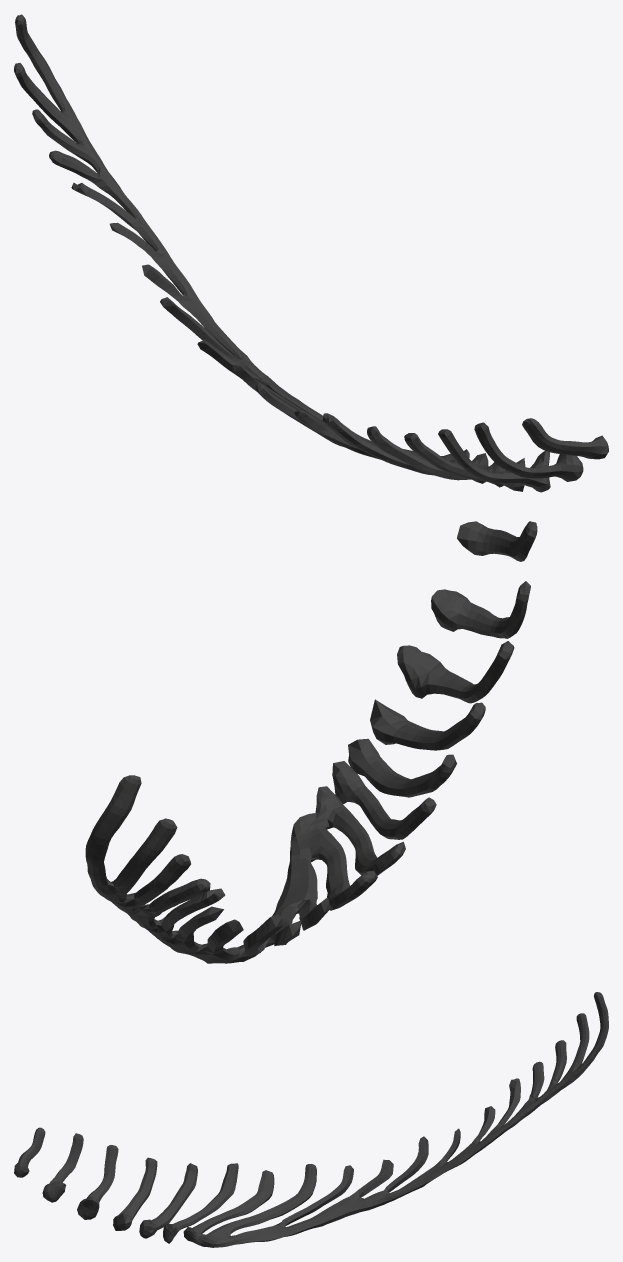
File: Costal_Cartilages_R.glb
The picture shows the model from 3 angles, top to bottom: view 1: azimuth 30°, elevation 25°; view 2: azimuth 150°, elevation 25°; view 3: azimuth 270°, elevation 25°; orthographic projection. The views are drawn at different scales.
Parts seen in each view (by area): view 1: Costal_Cartilages_R; view 2: Costal_Cartilages_R; view 3: Costal_Cartilages_R.
Part boxes in pixels (box(x1,y1,x2,y2)): Costal_Cartilages_R: box(14, 14, 608, 492); Costal_Cartilages_R: box(85, 521, 537, 963); Costal_Cartilages_R: box(14, 992, 608, 1247).
Size of the model in its own units: 0.2887 by 0.4189 by 1.09.
1 material, 1 textured.
